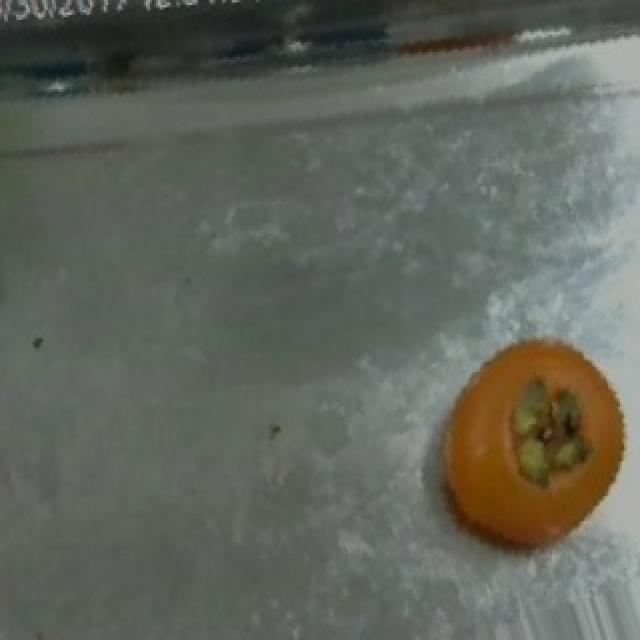Fruit: (418, 320, 640, 576)
